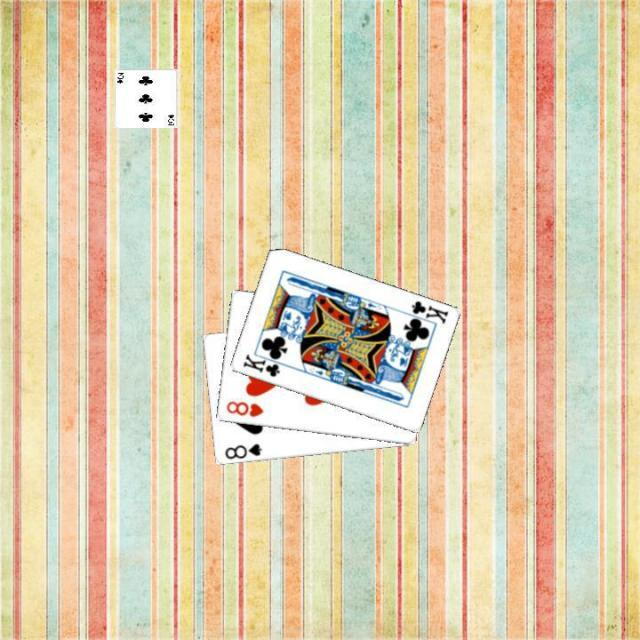8H: (222, 397, 265, 419)
8S: (220, 439, 264, 462)
KC: (400, 297, 450, 328), (239, 348, 288, 378)
